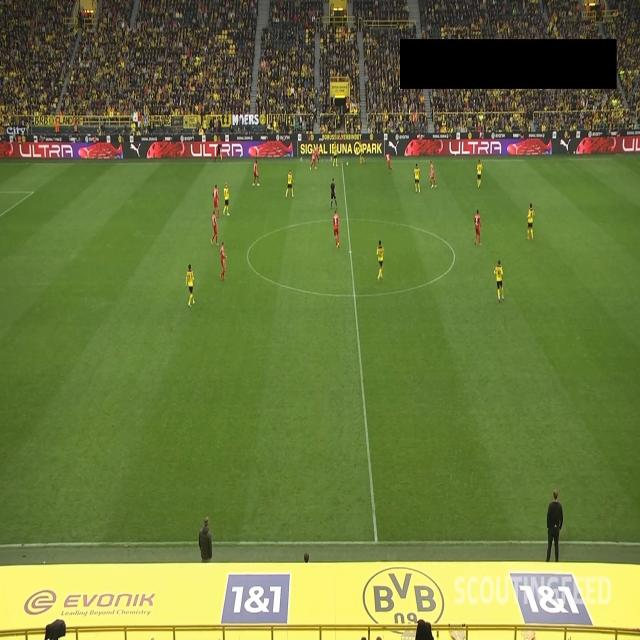ball: (346, 161, 349, 166)
